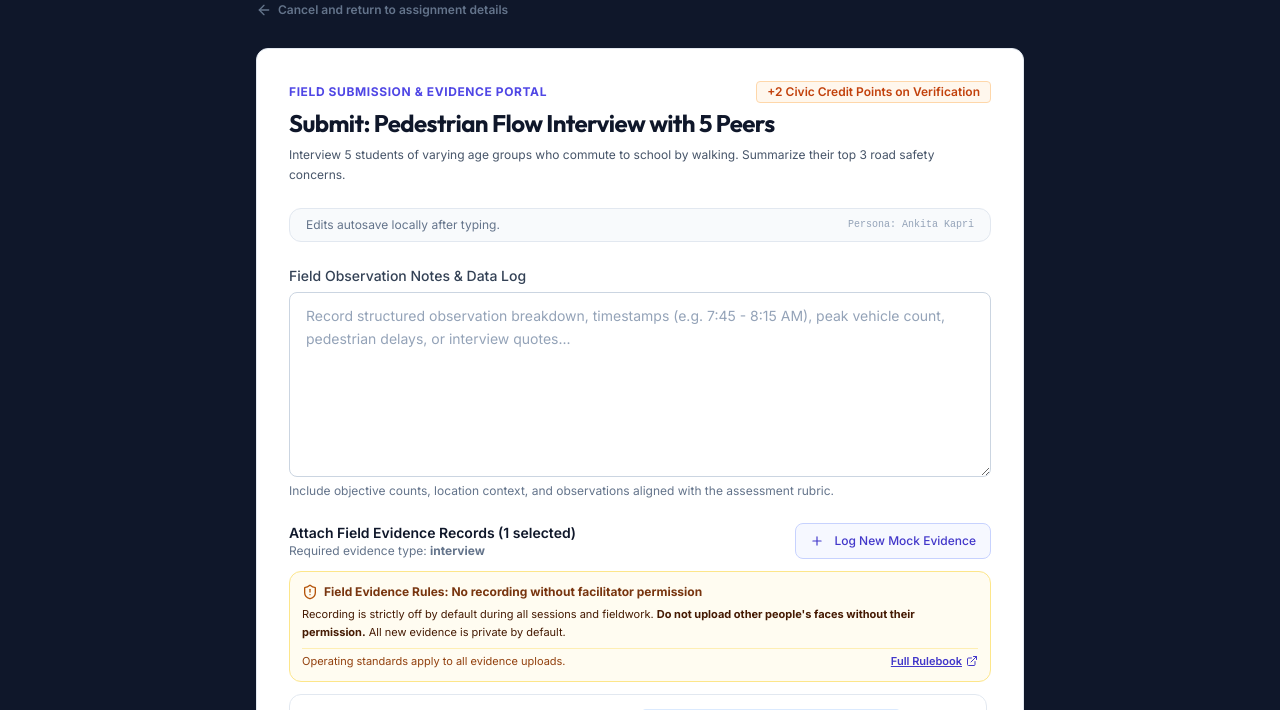
Test: Change Plan v2 #10 / Review Additions #3: IndexedDB Evidence Attachment & Cohort Verification › 7. Offline Activity Example (Local Cleanup Photo) › renders "Use Offline Cleanup Photo Example" in SubmitAssignmentPage modal and populates form
The image size is (1280, 710).
Note: Open Add Evidence modal
Click the button "Log New Mock Evidence" at [893, 541], box [795,523,991,559]
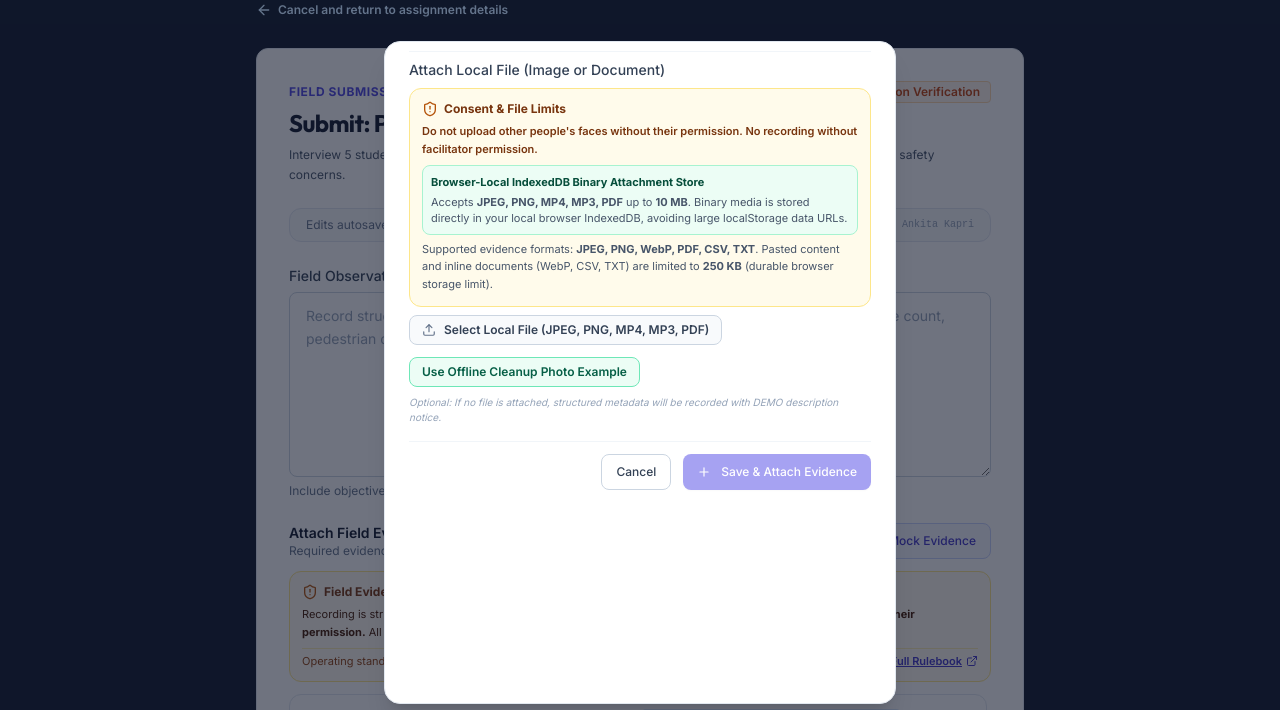
Now the button with test id "btn-use-offline-cleanup-example" is shown
Note: Click offline cleanup example button
Click the button with test id "btn-use-offline-cleanup-example" at [524, 372], box [409,357,640,387]
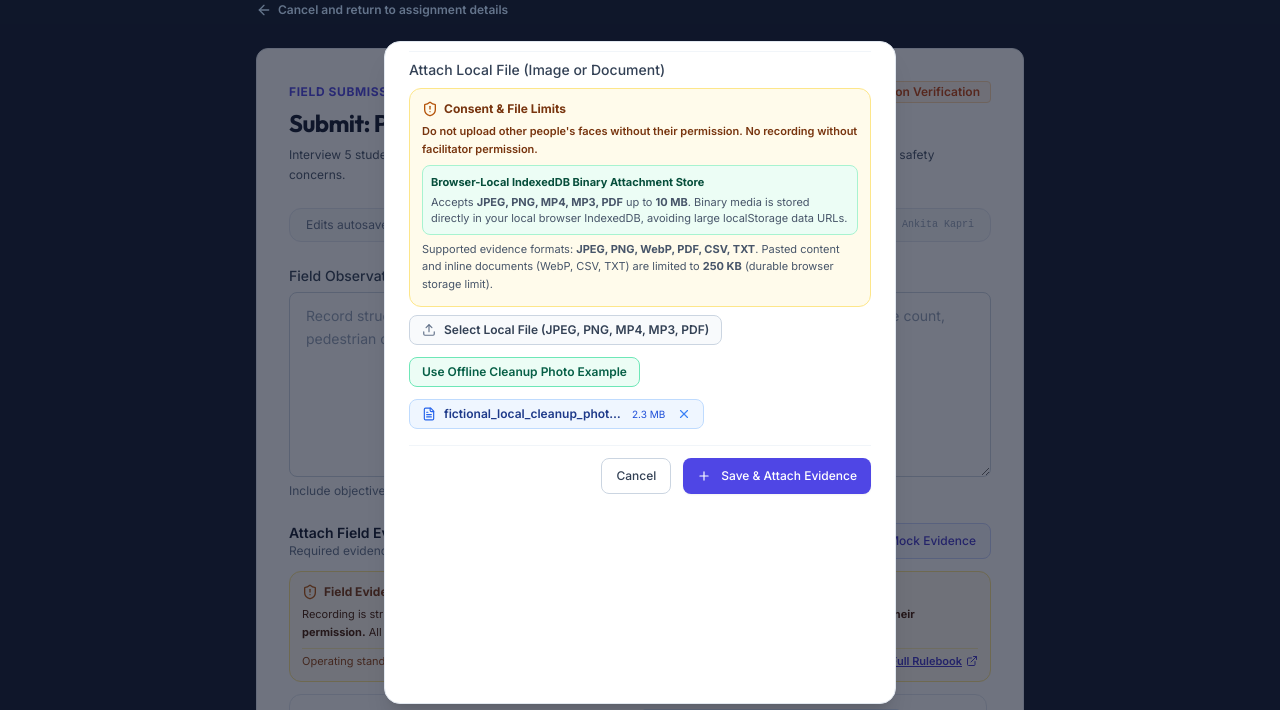
Now the text "fictional_local_cleanup_photo.png" is shown, box [444,406,624,422]
